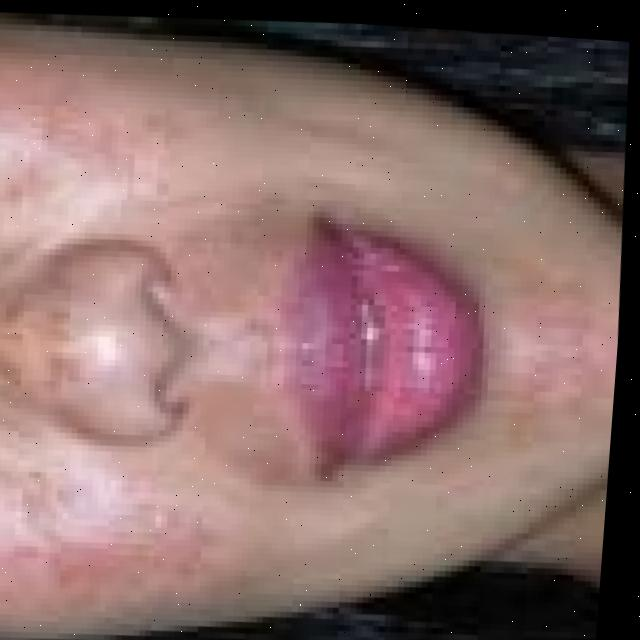Melasma: (21, 468, 214, 621), (0, 278, 62, 374)
